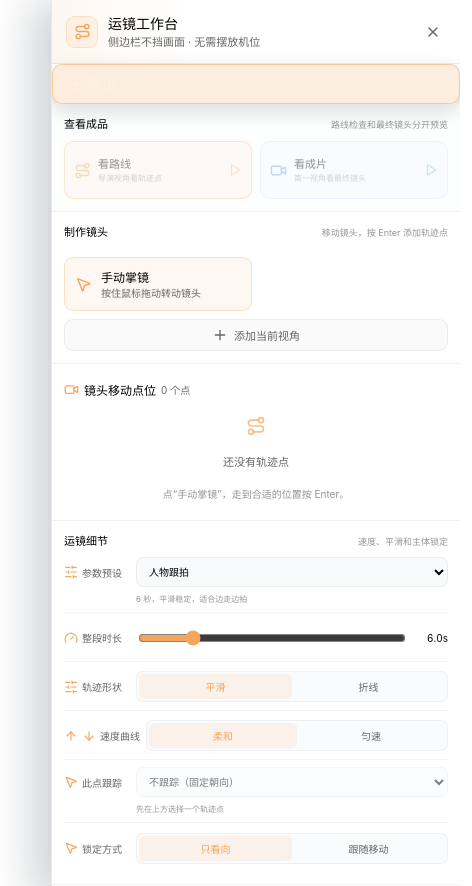
Test: prefers MP4 when the browser supports it
The image size is (472, 886).
Click the button with aria-label "导出运镜" at (76, 84), box [52, 64, 460, 104]
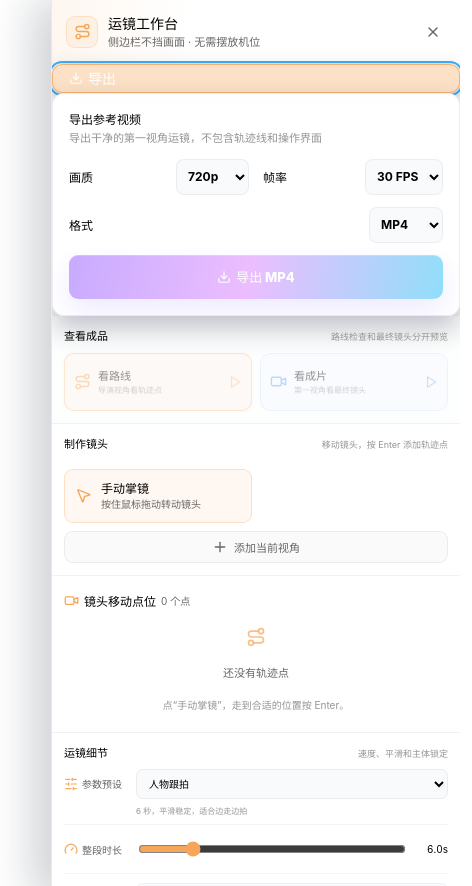
Check: the dropdown named "参考视频格式" shows "MP4", box [369, 207, 443, 243]
Check: the button "导出 MP4" is shown, box [69, 255, 443, 299]
